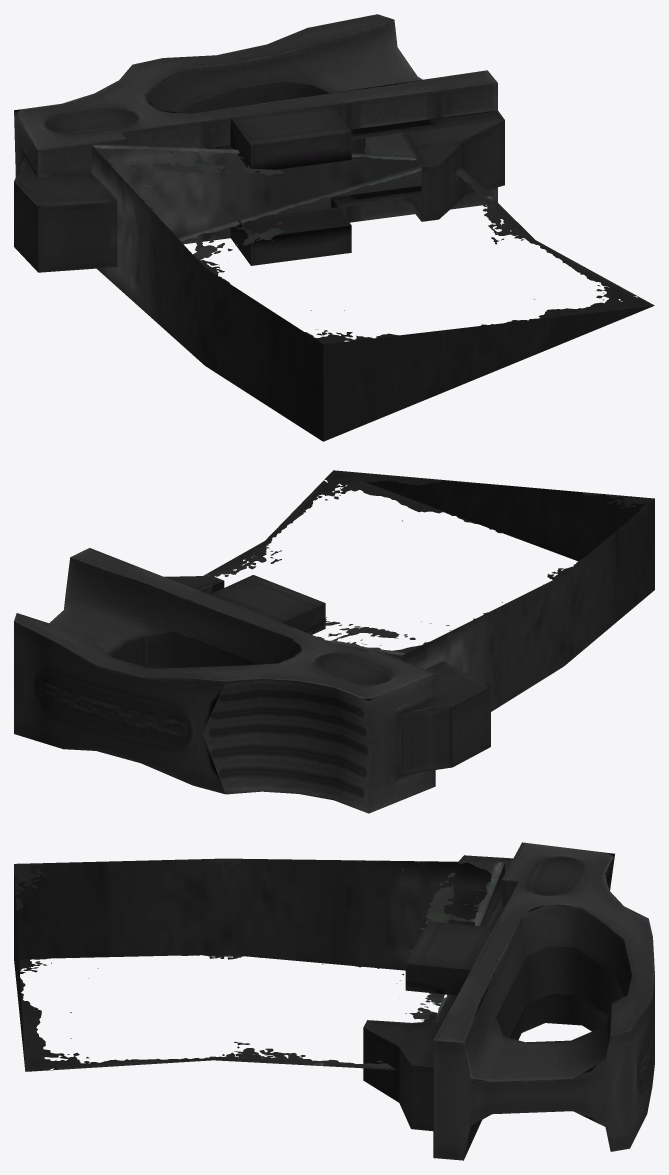
The model's file is t6_attach_fastmag_svu_world_LOD1.obj.
3 renders of one model, top to bottom at view 1: azimuth 30°, elevation 25°; view 2: azimuth 150°, elevation 25°; view 3: azimuth 270°, elevation 25°, orthographic. The views are drawn at different scales.
Parts seen in each view (by area): view 1: mtl_t6_attach_sniper_fastmag, mtl_t6_wpn_sniper_svu, mtl_t6_wpn_sniper_svu_camo3; view 2: mtl_t6_attach_sniper_fastmag, mtl_t6_wpn_sniper_svu_camo3, mtl_t6_wpn_sniper_svu; view 3: mtl_t6_attach_sniper_fastmag, mtl_t6_wpn_sniper_svu_camo3, mtl_t6_wpn_sniper_svu.
Boxes of the visible parts, x1,y1,x2,y2 form: mtl_t6_attach_sniper_fastmag: (14,14,504,272); mtl_t6_wpn_sniper_svu: (92,144,654,441); mtl_t6_wpn_sniper_svu_camo3: (91,145,323,441); mtl_t6_attach_sniper_fastmag: (14,548,490,813); mtl_t6_wpn_sniper_svu_camo3: (401,499,654,711); mtl_t6_wpn_sniper_svu: (203,470,654,659); mtl_t6_attach_sniper_fastmag: (363,842,654,1160); mtl_t6_wpn_sniper_svu_camo3: (14,859,491,970); mtl_t6_wpn_sniper_svu: (14,858,504,1071).
Bounding box in the file's own units: 14.07 × 3.64 × 17.73.
